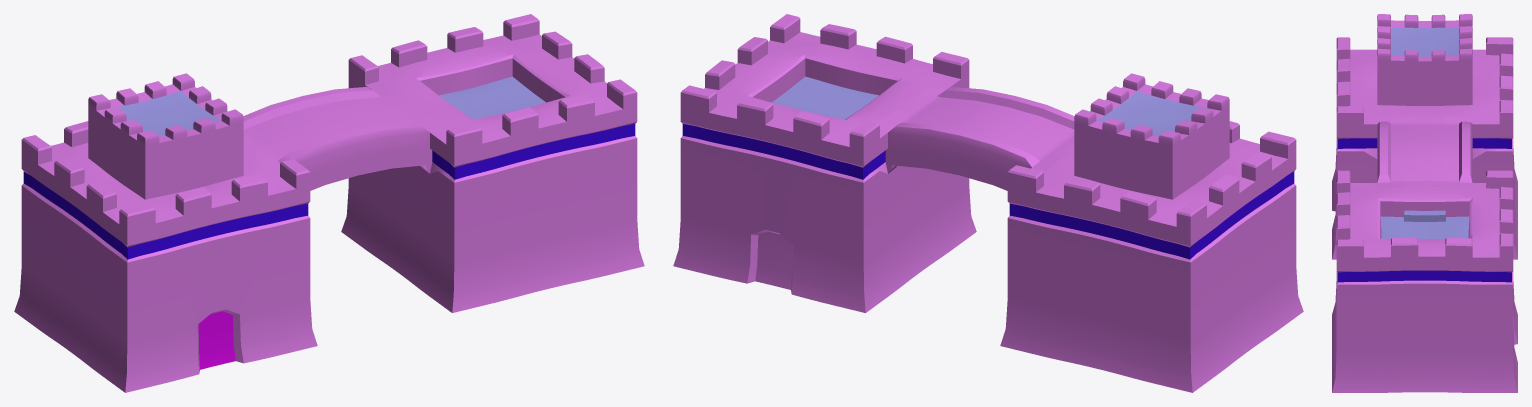
Rendered from square1.fbx.
3 renders of one model, left to right at view 1: azimuth 30°, elevation 25°; view 2: azimuth 150°, elevation 25°; view 3: azimuth 270°, elevation 25°, orthographic. The views are drawn at different scales.
Parts seen in each view (by area): view 1: Home04; view 2: Home04; view 3: Home04.
Part boxes in pixels (bbox=[...]): Home04: bbox=[14, 14, 644, 392]; Home04: bbox=[673, 14, 1303, 392]; Home04: bbox=[1332, 14, 1517, 392].
Size of the model in its own units: 3428 by 1407 by 1270.
